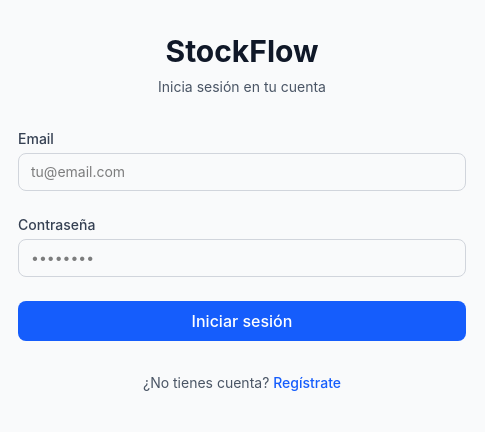
Scenario: LoginPage › shows validation errors for empty fields
This screenshot has width=485, height=432.
Click the button "Iniciar sesión".
click(242, 321)  # box [18, 301, 466, 341]
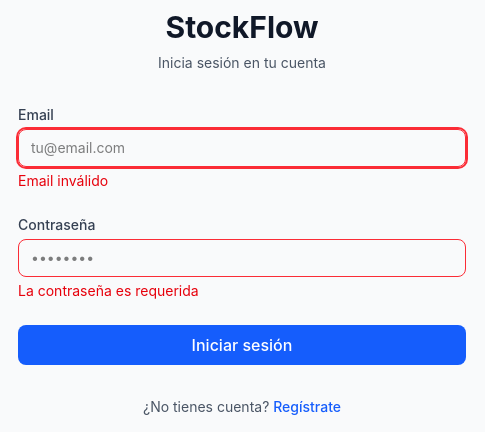
Result: the text "Email inválido" is shown at [18, 172, 108, 189]
